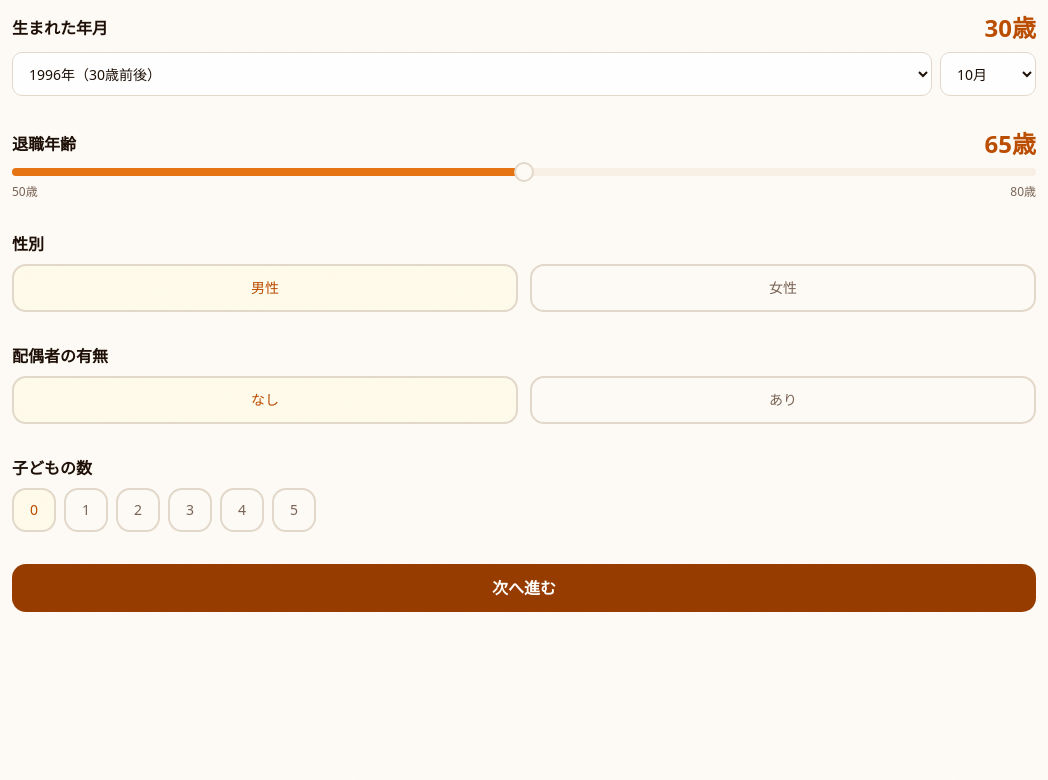
Test case: retirement ages › spouse fields appear only with a spouse, and the spouse retirement age is stored
Expected: the slider labelled "配偶者の退職年齢" is not shown
Click the radio button labelled "あり" at coordinates (783, 400), box [530,376,1036,424]
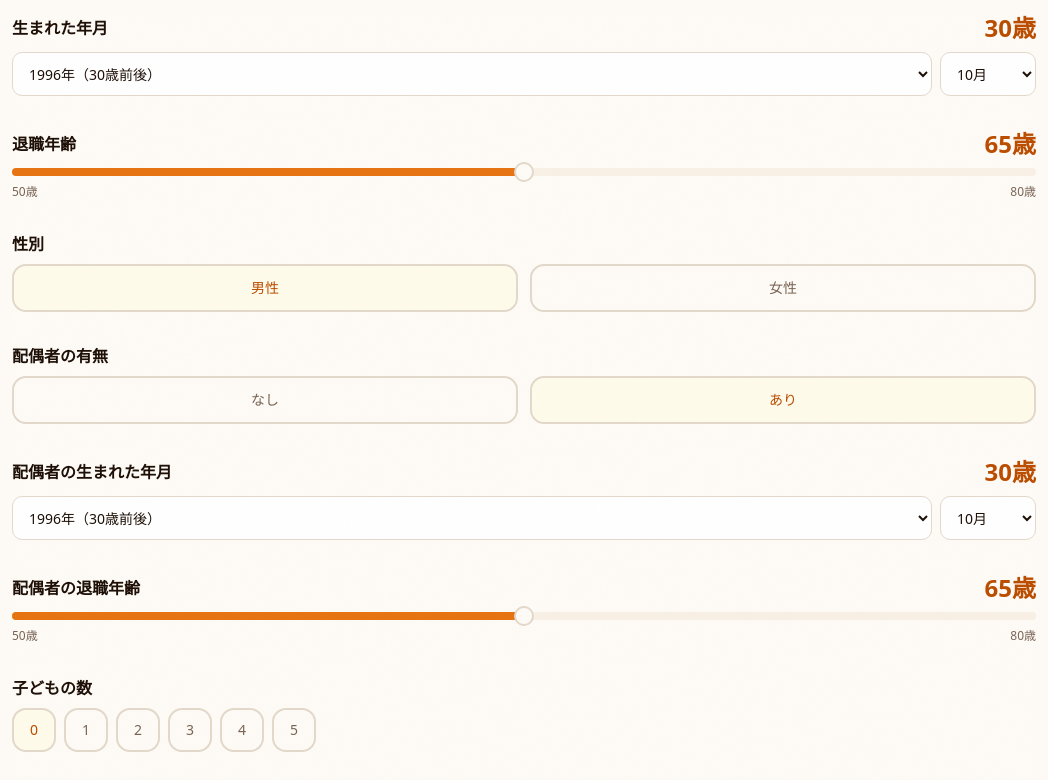
Result: the dropdown named "配偶者の生まれた年" is shown at [12,496,932,540]
Press End in the slider named "配偶者の退職年齢", box [514,606,534,626]
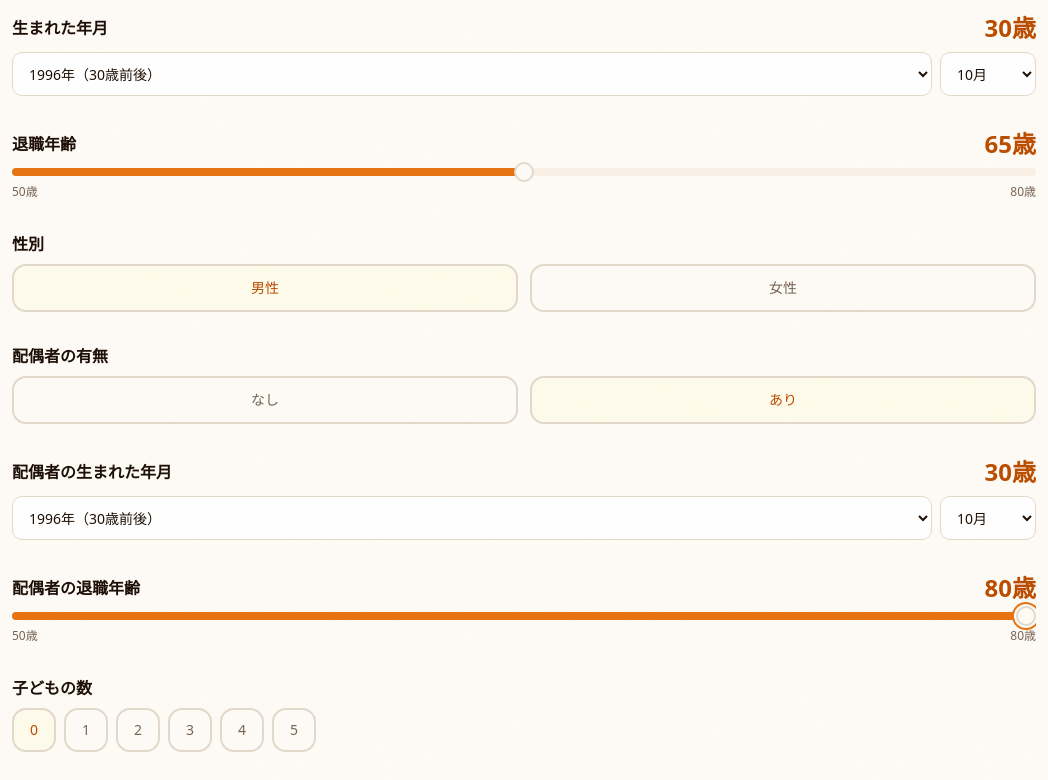
Result: the slider named "配偶者の退職年齢" has attribute aria-valuenow="80" at [1016,606,1036,626]
Click the radio button labelled "なし" at coordinates (265, 400), box [12,376,518,424]
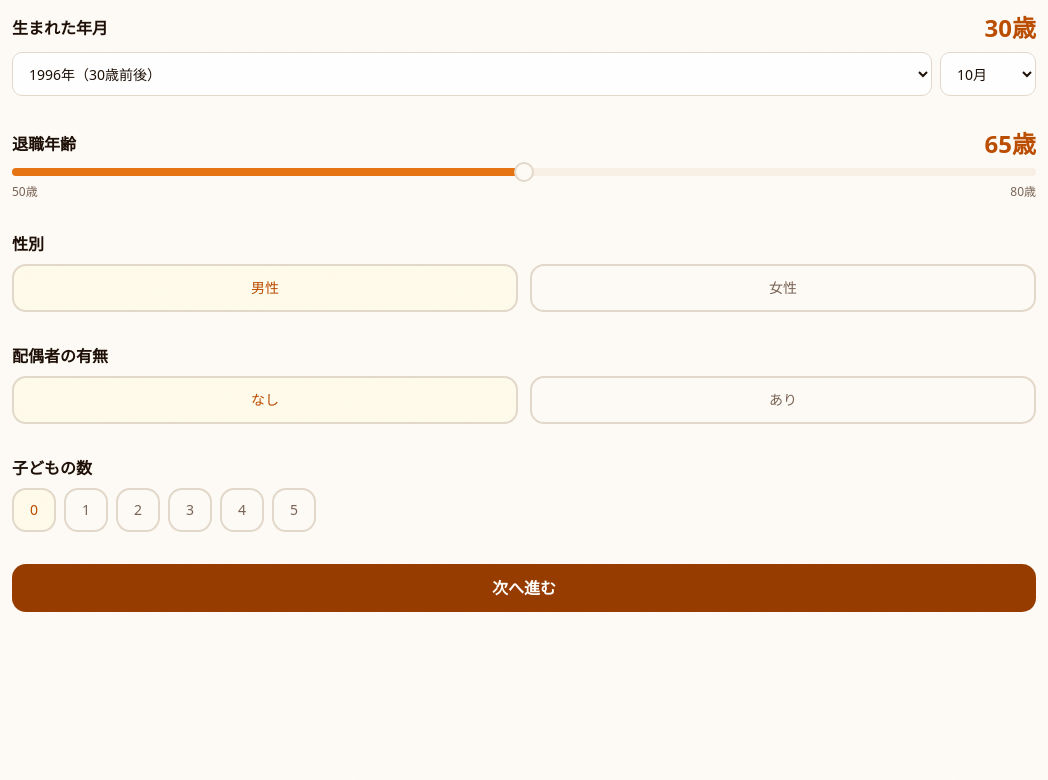
Result: the label "配偶者の退職年齢" is gone
